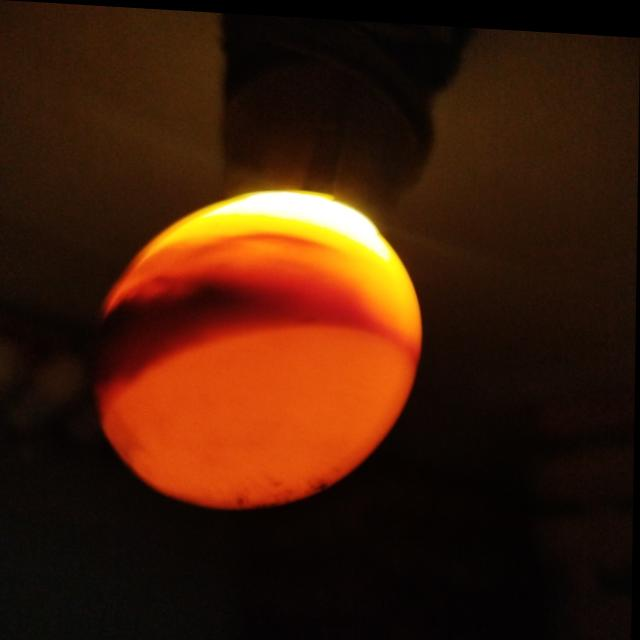Area Infectada: (88, 274, 277, 421)
